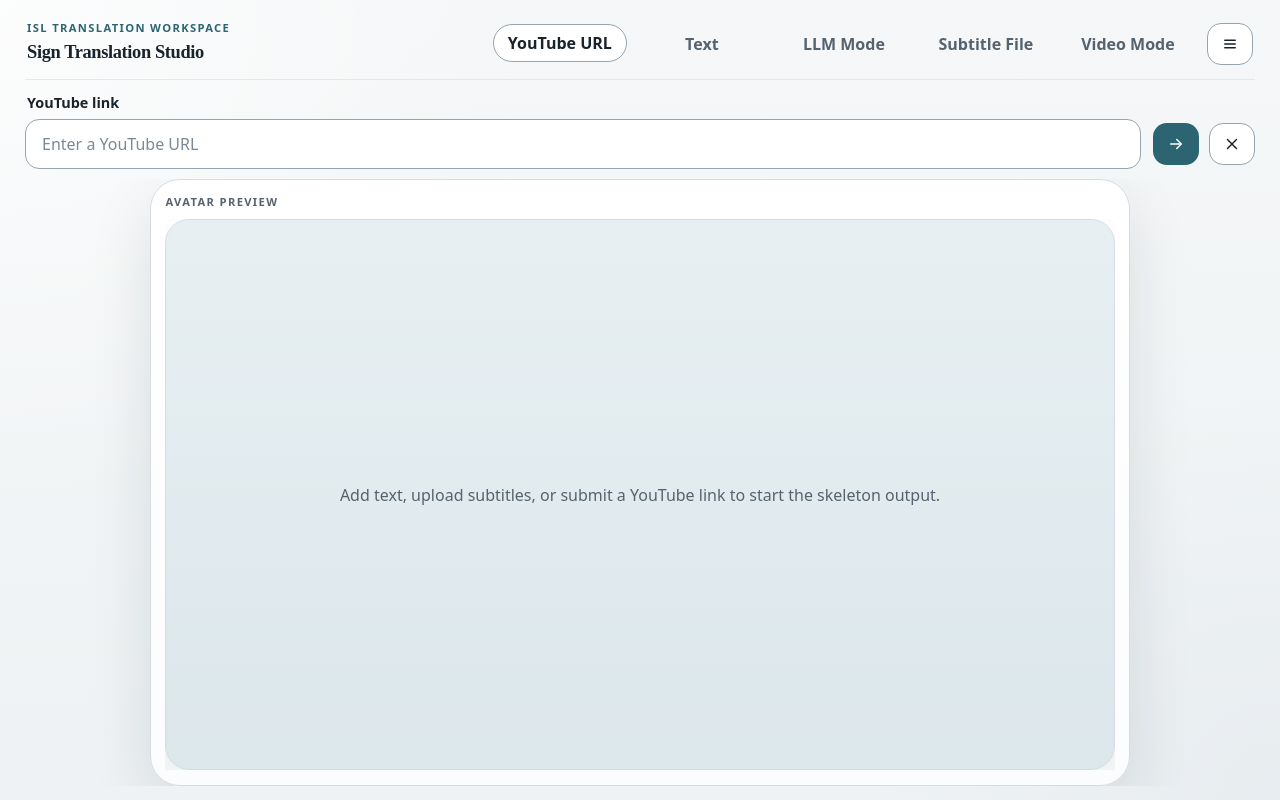
Scenario: App › falls back to audio-only live mode when the camera stream is denied
This screenshot has width=1280, height=800.
Click the tab "Video Mode" at coordinates (1128, 44), box [1061,25,1195,63]
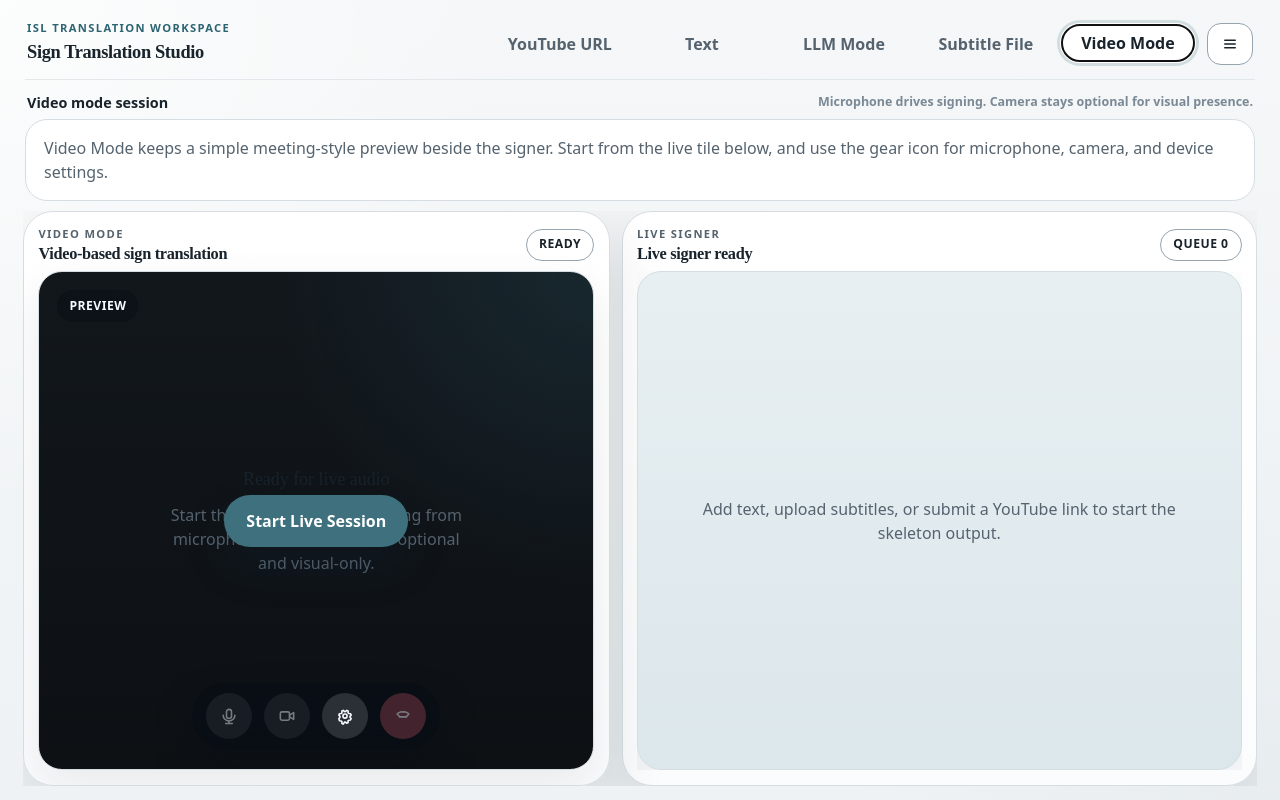
Click the button "Start Live Session" at coordinates (316, 520), box [224,494,408,546]
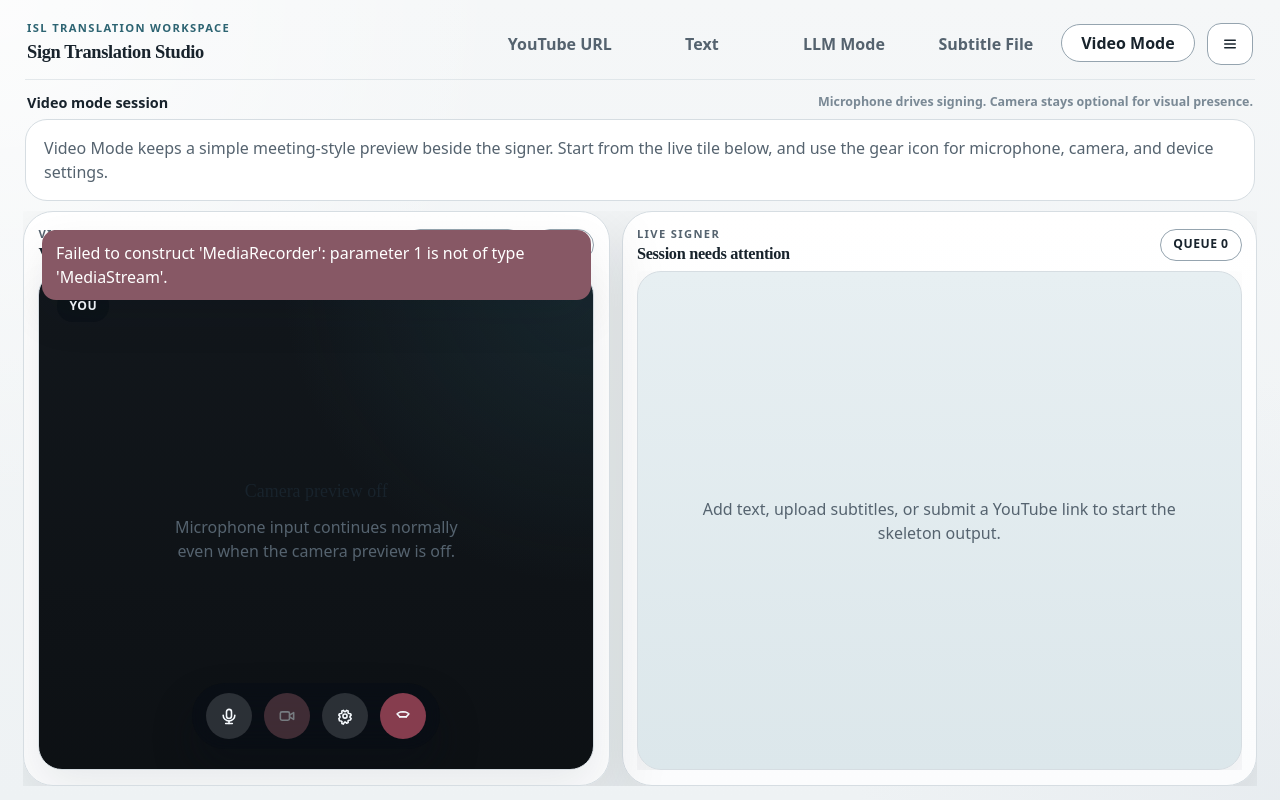
Expected: the text "Microphone input continues normally even when the camera preview is off" is shown, [175,516,458,562]
